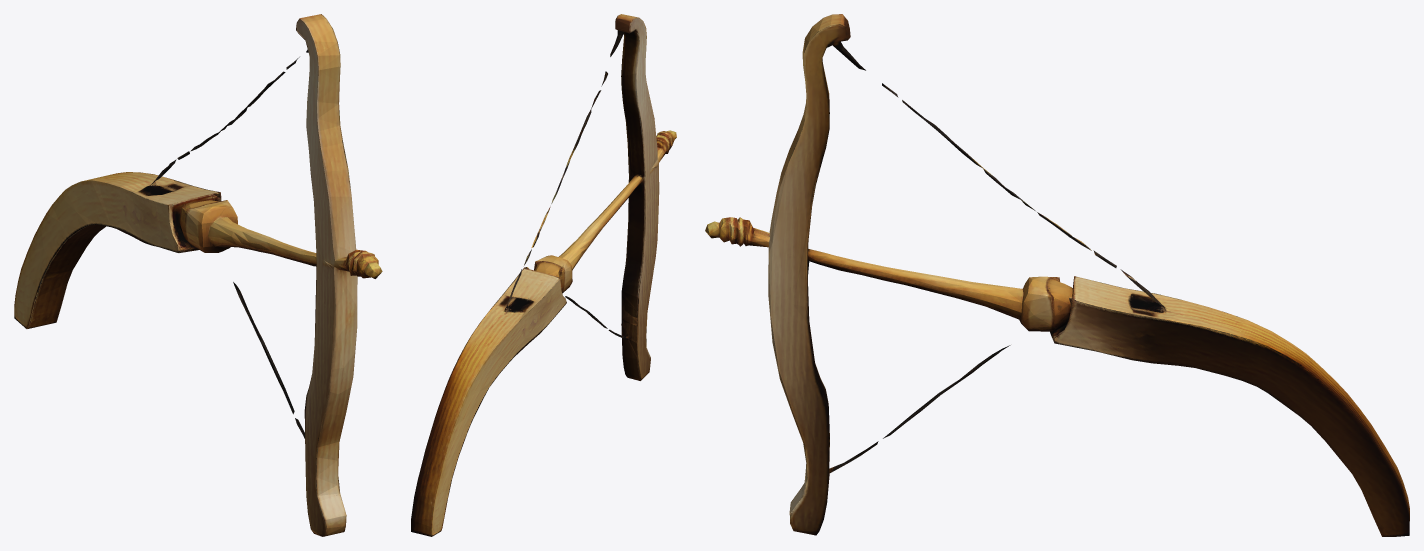
File: wooden-bow-drill-set-rustic.jpeg.glb
3 views of the same model, side by side, from view 1: azimuth 30°, elevation 25°; view 2: azimuth 150°, elevation 25°; view 3: azimuth 270°, elevation 25° (orthographic). The views are drawn at different scales.
Parts seen in each view (by area): view 1: world; view 2: world; view 3: world.
Boxes of the visible parts, box(x1,y1,x2,y2) form: world: box(14, 14, 382, 536); world: box(411, 14, 676, 536); world: box(705, 14, 1409, 536).
Size of the model in its own units: 0.085 by 0.802 by 1.
Materials: 1 (1 with a texture image).
